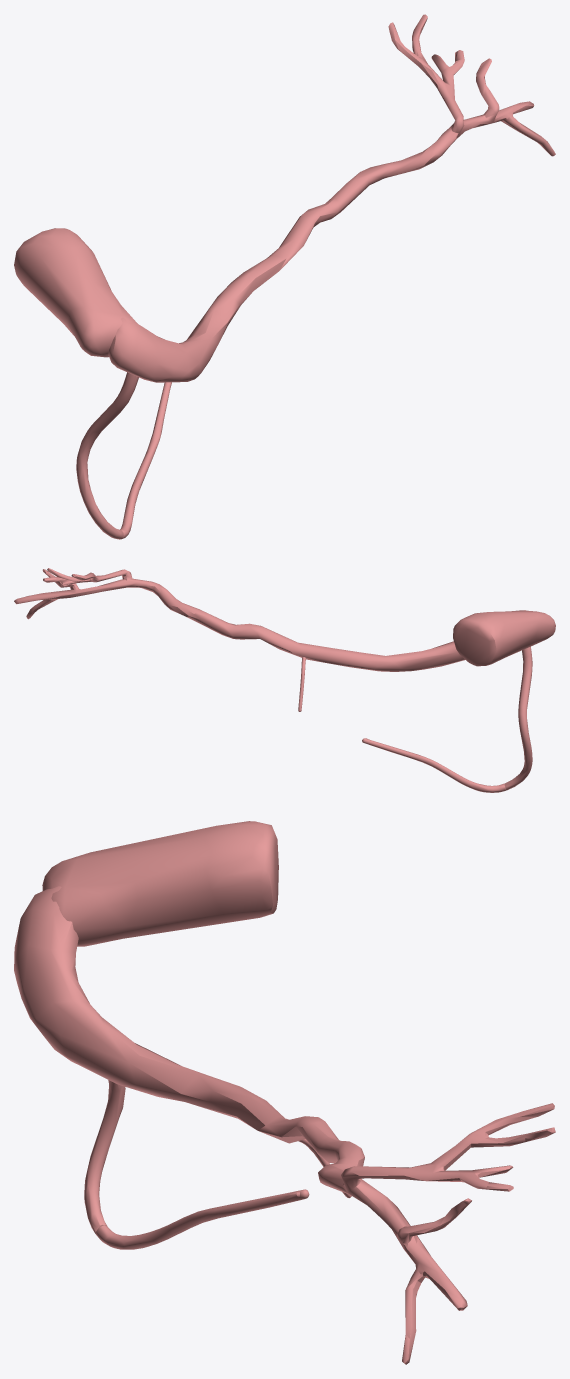
File: pancreatic_arteries.glb
3 renders of one model, top to bottom at view 1: azimuth 30°, elevation 25°; view 2: azimuth 150°, elevation 25°; view 3: azimuth 270°, elevation 25°, orthographic. The views are drawn at different scales.
Parts seen in each view (by area): view 1: FJ3640_Splenic_artery, FJ3421_Celiac_trunk, FJ3430_Dorsal_pancreatic_artery, FJ3444_Inferior_pancreatic_artery; view 2: FJ3640_Splenic_artery, FJ3421_Celiac_trunk, FJ3430_Dorsal_pancreatic_artery, FJ3444_Inferior_pancreatic_artery; view 3: FJ3640_Splenic_artery, FJ3421_Celiac_trunk, FJ3444_Inferior_pancreatic_artery, FJ3430_Dorsal_pancreatic_artery.
Part boxes in pixels (x1,y1,x2,y2): FJ3640_Splenic_artery: [108, 14, 555, 382]; FJ3421_Celiac_trunk: [14, 228, 137, 357]; FJ3430_Dorsal_pancreatic_artery: [76, 372, 138, 539]; FJ3444_Inferior_pancreatic_artery: [120, 382, 171, 539]; FJ3640_Splenic_artery: [14, 568, 525, 671]; FJ3421_Celiac_trunk: [453, 610, 555, 666]; FJ3430_Dorsal_pancreatic_artery: [504, 646, 532, 790]; FJ3444_Inferior_pancreatic_artery: [362, 738, 506, 792]; FJ3640_Splenic_artery: [14, 886, 555, 1364]; FJ3421_Celiac_trunk: [42, 821, 278, 946]; FJ3444_Inferior_pancreatic_artery: [96, 1189, 309, 1249]; FJ3430_Dorsal_pancreatic_artery: [84, 1080, 125, 1233].
Bounding box in the file's own units: 0.0979 × 0.0477 × 0.0532.
